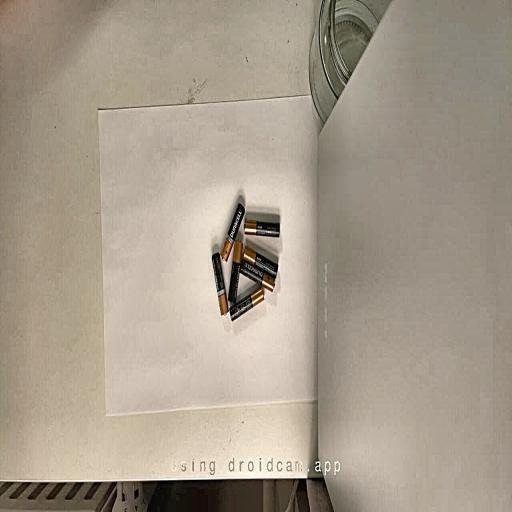DuracellAAA: (220, 203, 245, 262), (243, 244, 278, 277), (229, 288, 264, 321), (240, 260, 275, 292), (212, 252, 228, 314), (228, 240, 243, 302), (244, 221, 280, 237)
